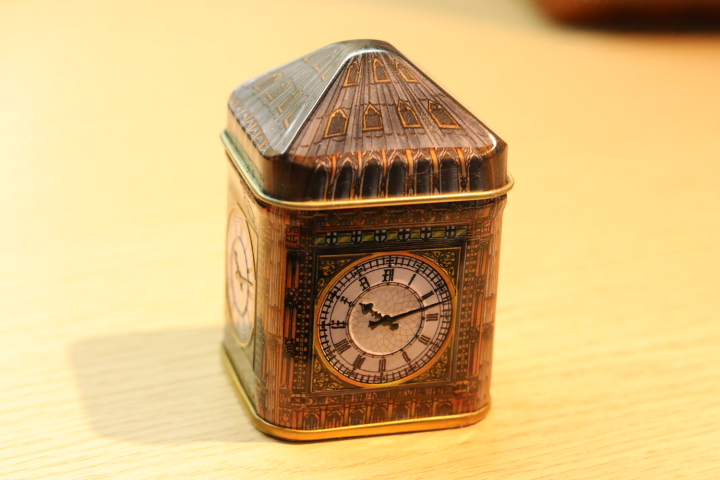Big Ben: (204, 23, 544, 453)
